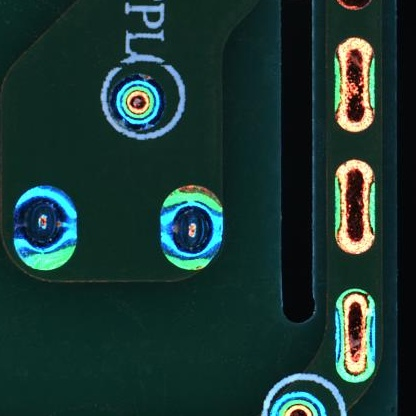spot: (10, 184, 78, 273), (159, 184, 223, 273), (110, 73, 167, 131), (266, 392, 325, 416)
